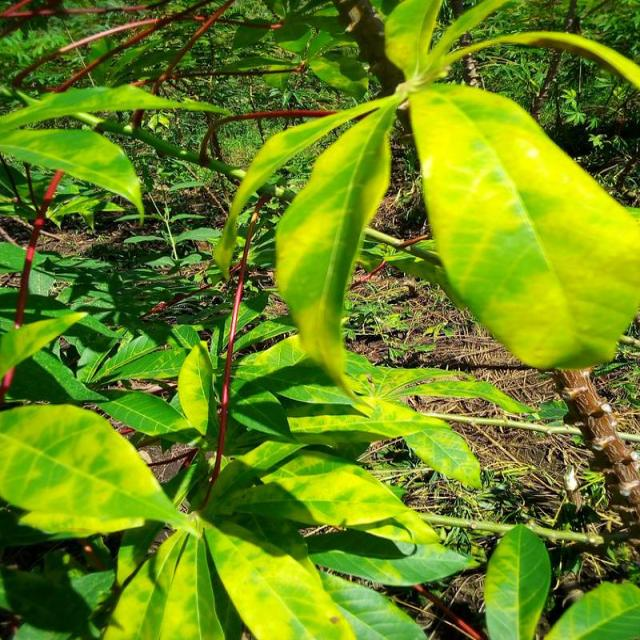cassava leaf: (408, 81, 638, 370), (272, 89, 402, 412), (0, 401, 194, 543), (482, 523, 550, 639)
